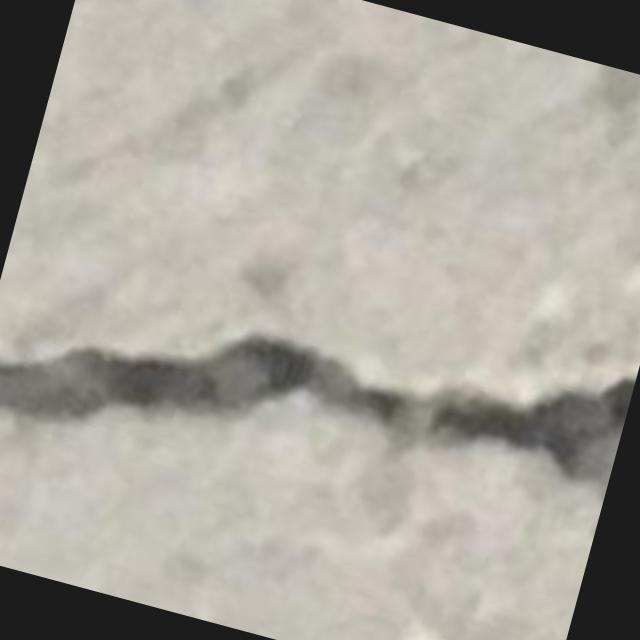crack: (0, 337, 636, 489)
